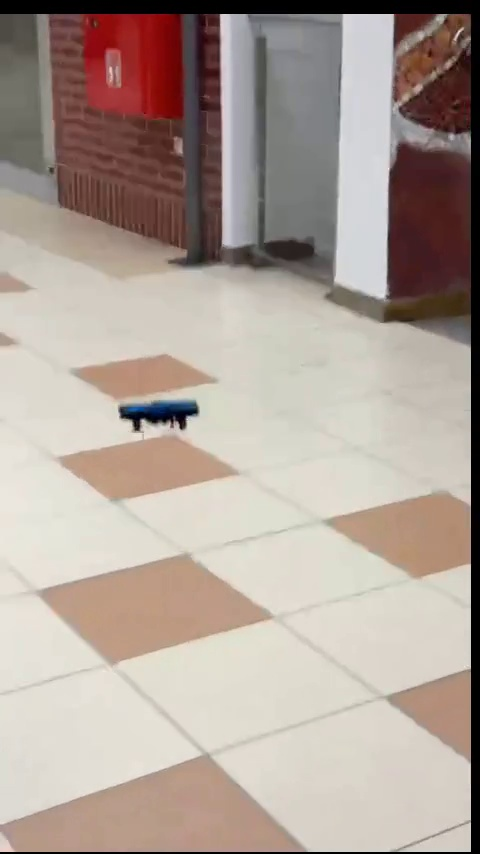drone: (119, 394, 203, 431)
